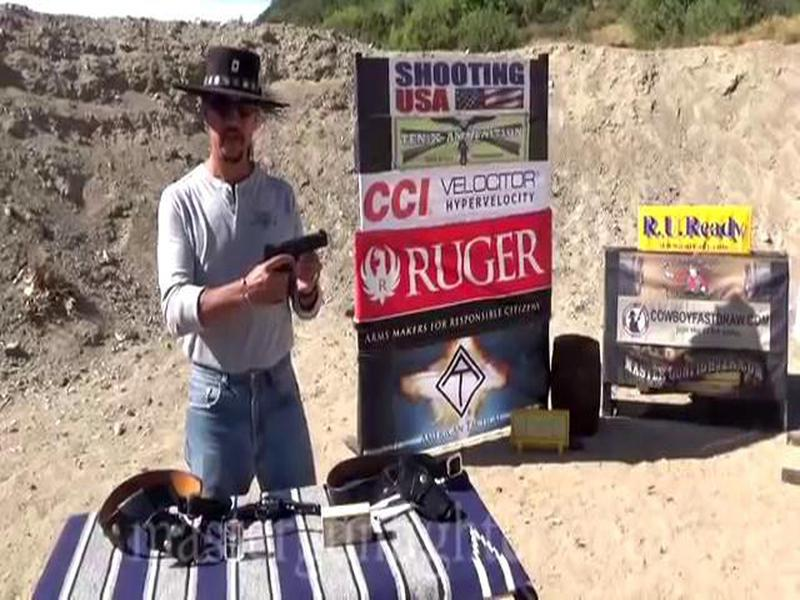Pistola: (243, 226, 334, 300)
